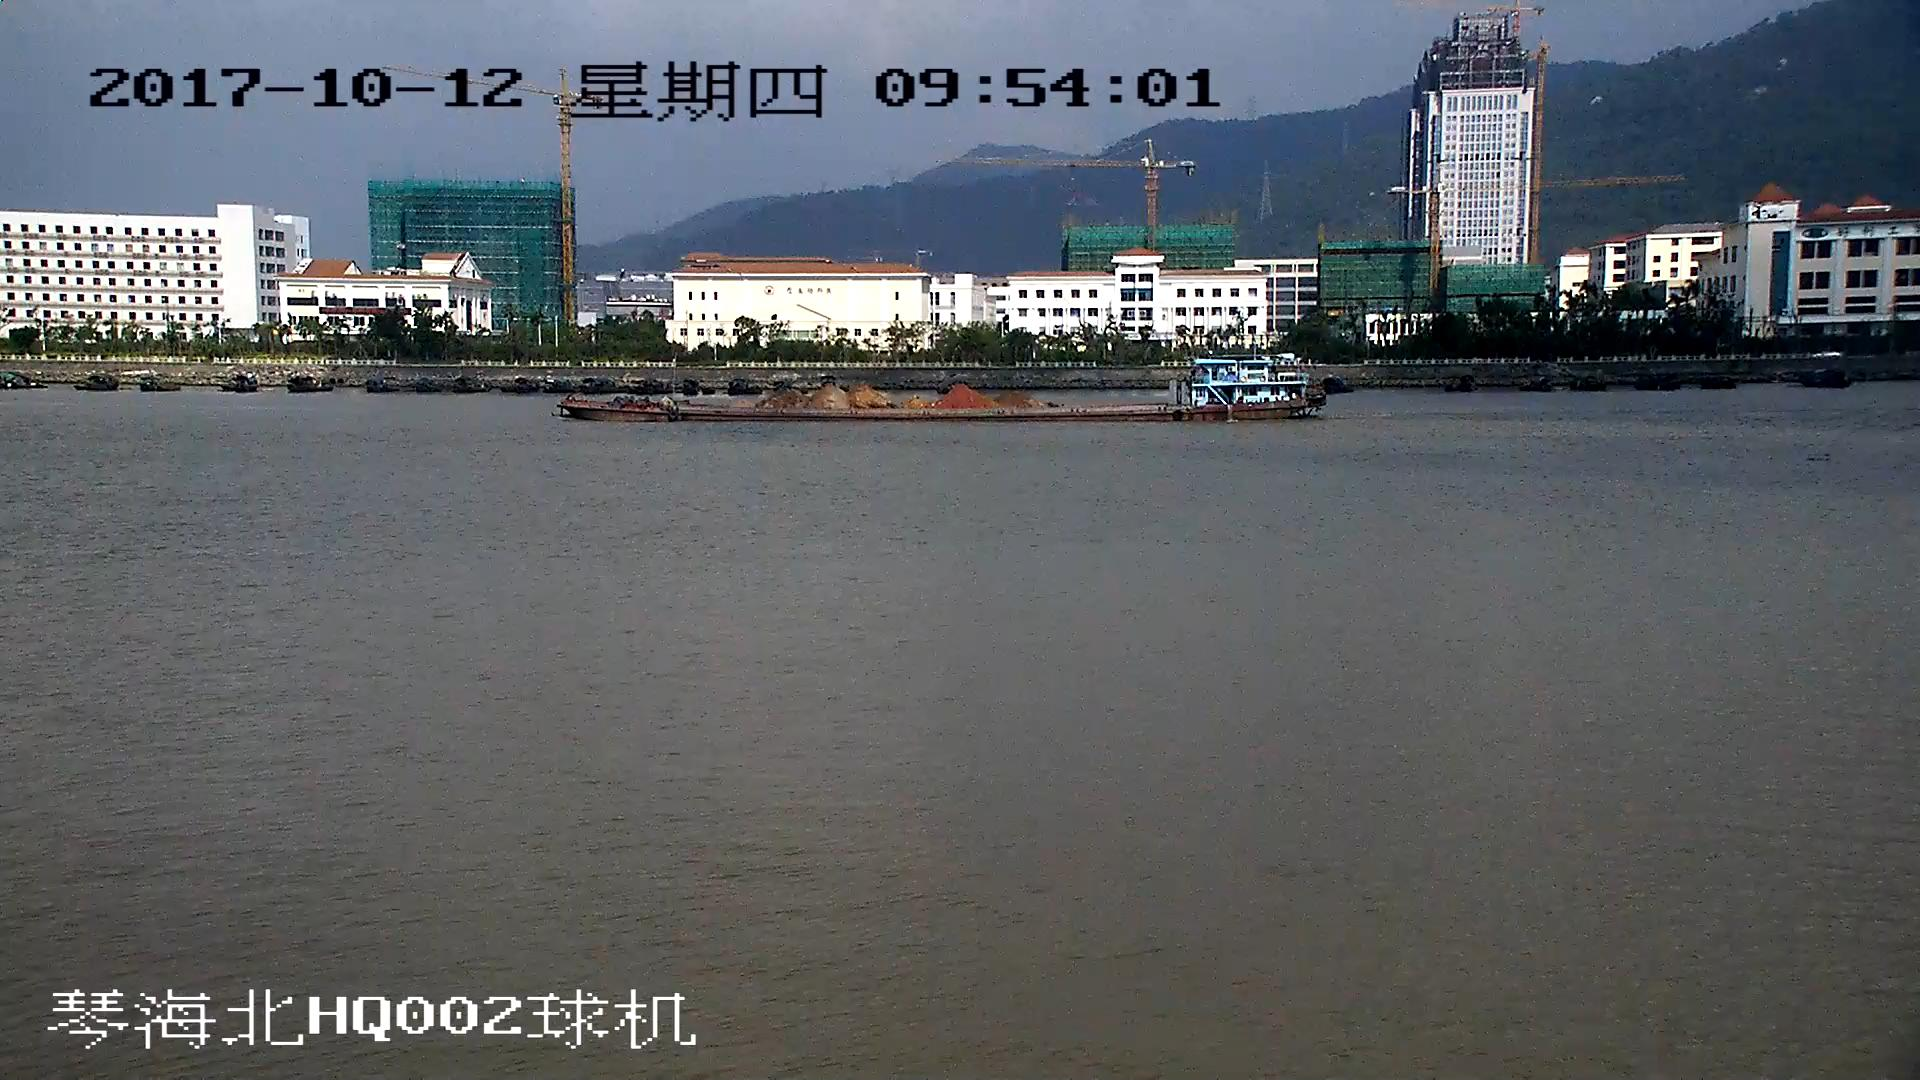ore carrier: (562, 362, 1325, 423)
